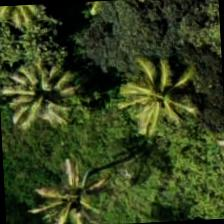Kelapa_Sawit: (114, 47, 210, 142), (0, 41, 89, 136), (28, 148, 124, 223)
